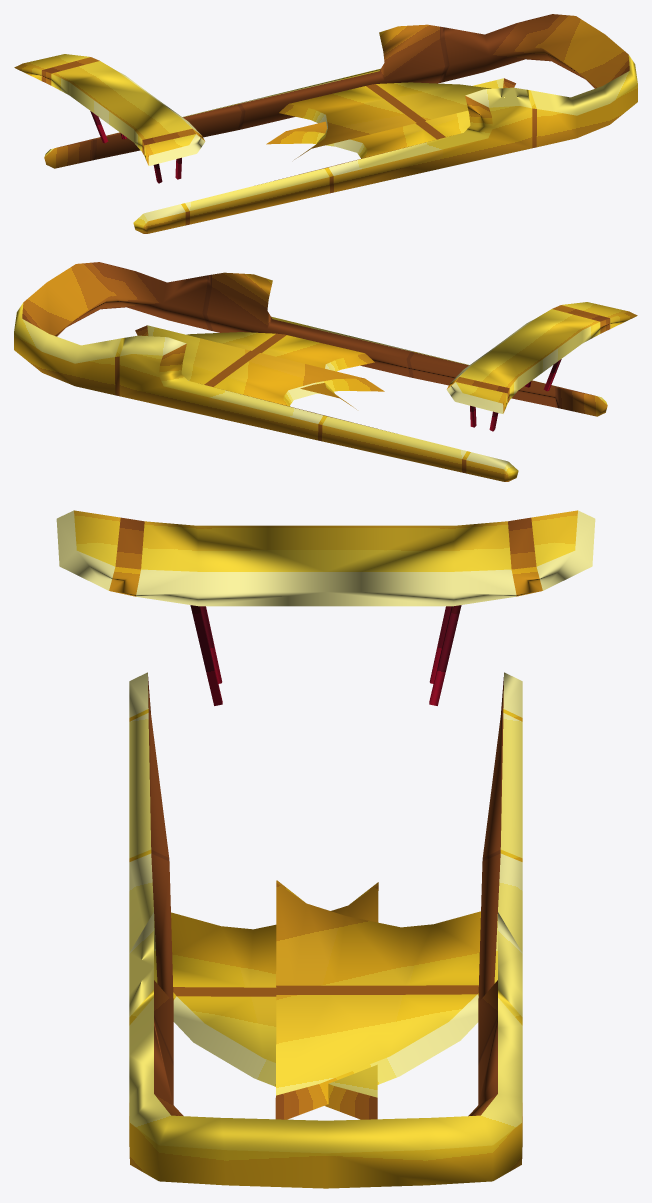
Rendered from MiamiBoard_Power2.glb.
3 renders of one model, top to bottom at view 1: azimuth 30°, elevation 25°; view 2: azimuth 150°, elevation 25°; view 3: azimuth 270°, elevation 25°, orthographic. The views are drawn at different scales.
Visible parts, largest first — view 1: MiamiBoard_Power2, R_wingFront, L_wing, R_wing, L_wingFront; view 2: MiamiBoard_Power2, R_wingFront, R_wing, L_wing, L_wingFront; view 3: MiamiBoard_Power2, R_wingFront, L_wing, R_wing, L_wingFront.
Boxes of the visible parts, box(x1,y1,x2,y2) form: MiamiBoard_Power2: box(44, 14, 637, 233); R_wingFront: box(279, 82, 491, 159); L_wing: box(101, 94, 205, 165); R_wing: box(14, 54, 154, 118); L_wingFront: box(266, 78, 515, 158); MiamiBoard_Power2: box(14, 262, 607, 481); R_wingFront: box(135, 325, 384, 406); R_wing: box(446, 342, 550, 413); L_wing: box(497, 302, 637, 366); L_wingFront: box(186, 332, 374, 409); MiamiBoard_Power2: box(129, 605, 522, 1188); R_wingFront: box(275, 880, 480, 1119); L_wing: box(56, 510, 325, 606); R_wing: box(326, 510, 595, 606); L_wingFront: box(171, 882, 378, 1119).
Bounding box in the file's own units: 9.51 × 1.77 × 4.17.
1 material, 1 textured.
